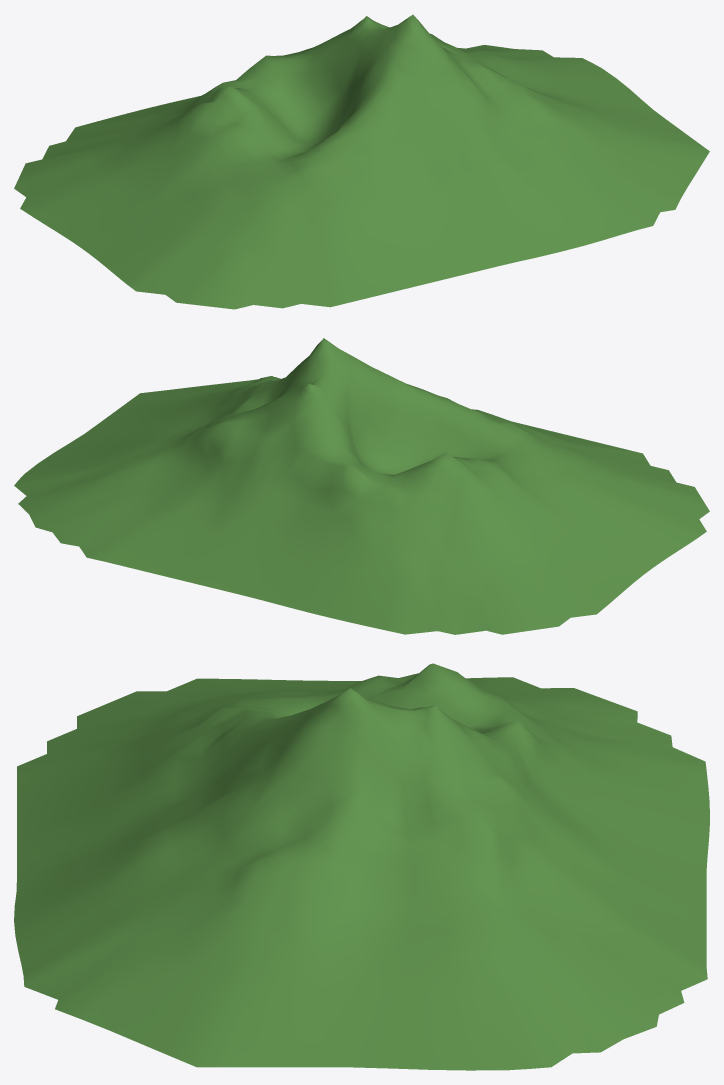
Rendered from SM_Mountain03.fbx.
3 views of the same model, one above another, from view 1: azimuth 30°, elevation 25°; view 2: azimuth 150°, elevation 25°; view 3: azimuth 270°, elevation 25° (orthographic). The views are drawn at different scales.
Visible parts, largest first — view 1: SM_Mountain03; view 2: SM_Mountain03; view 3: SM_Mountain03.
Part boxes in pixels (box(x1,y1,x2,y2)): SM_Mountain03: box(14, 14, 709, 309); SM_Mountain03: box(14, 338, 709, 634); SM_Mountain03: box(14, 663, 709, 1070).
Size of the model in its own units: 3451 by 2580 by 882.
